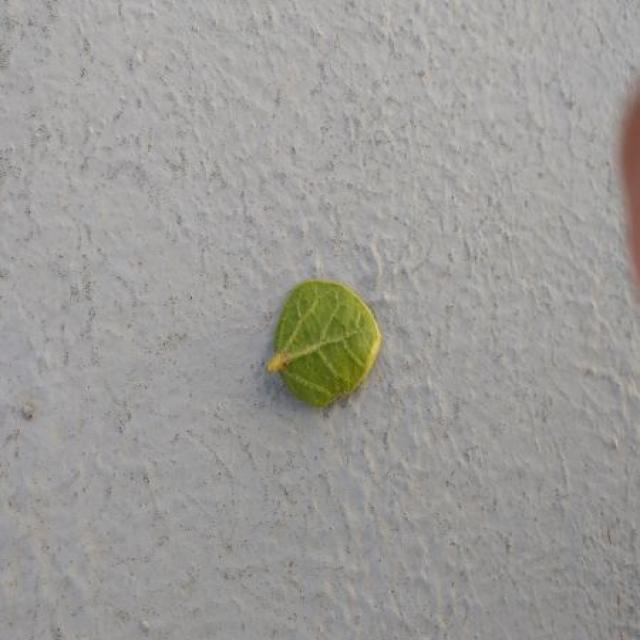Hibiscus: (267, 279, 382, 407)
